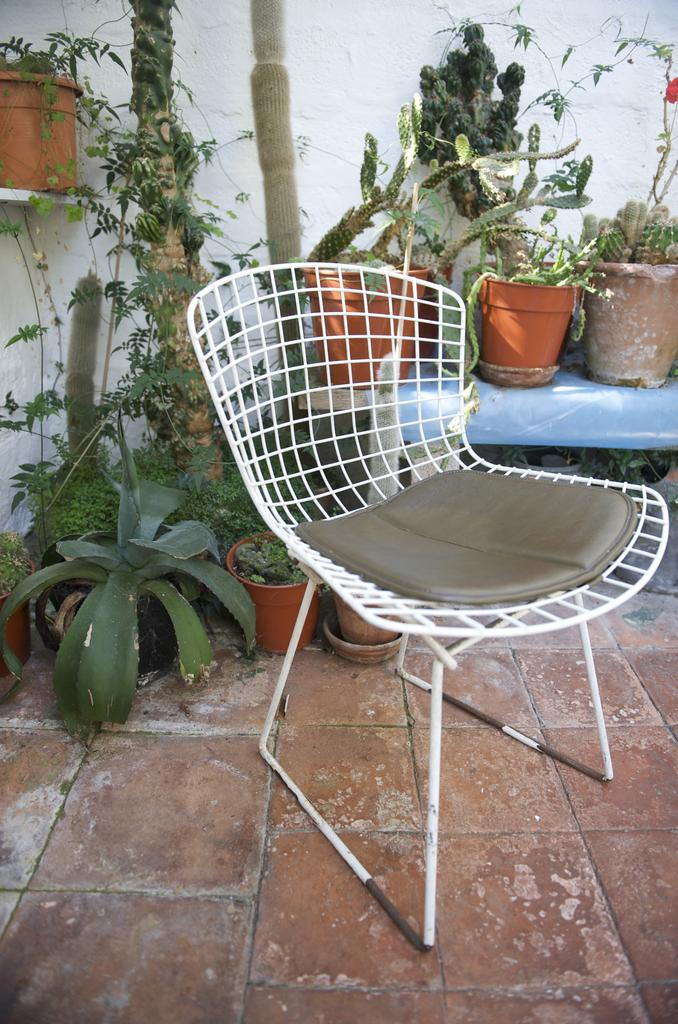Chair: (183, 272, 669, 942)
